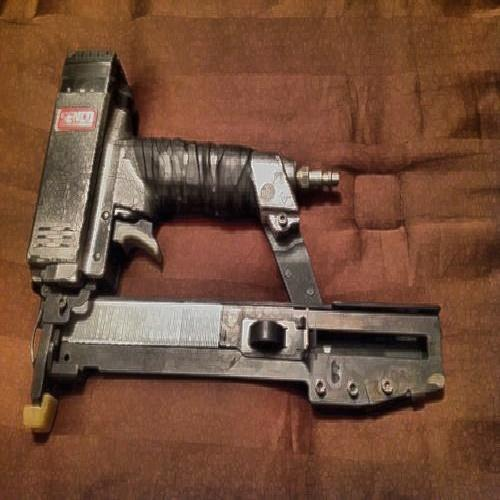stapler: (29, 45, 428, 437)
